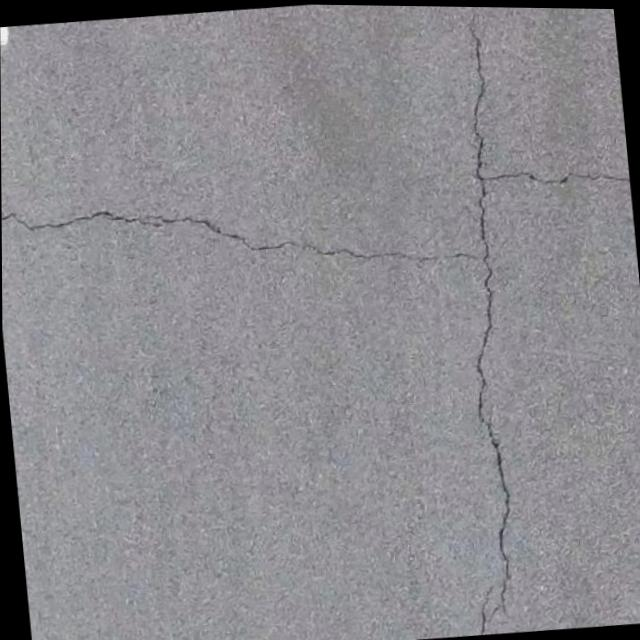Crack: (1, 135, 541, 359), (430, 5, 553, 632), (466, 134, 622, 216)
